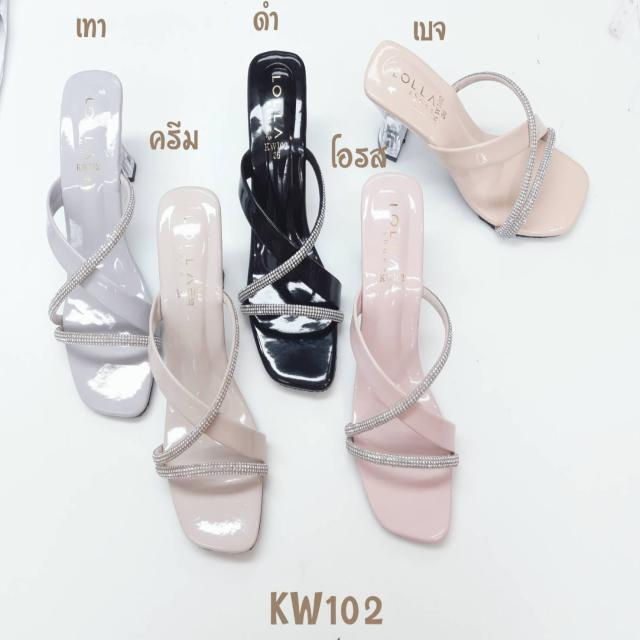bej: (362, 35, 592, 239)
black: (247, 51, 341, 391)
cream: (156, 184, 265, 566)
grey: (61, 71, 160, 421)
orot: (358, 173, 457, 542)
